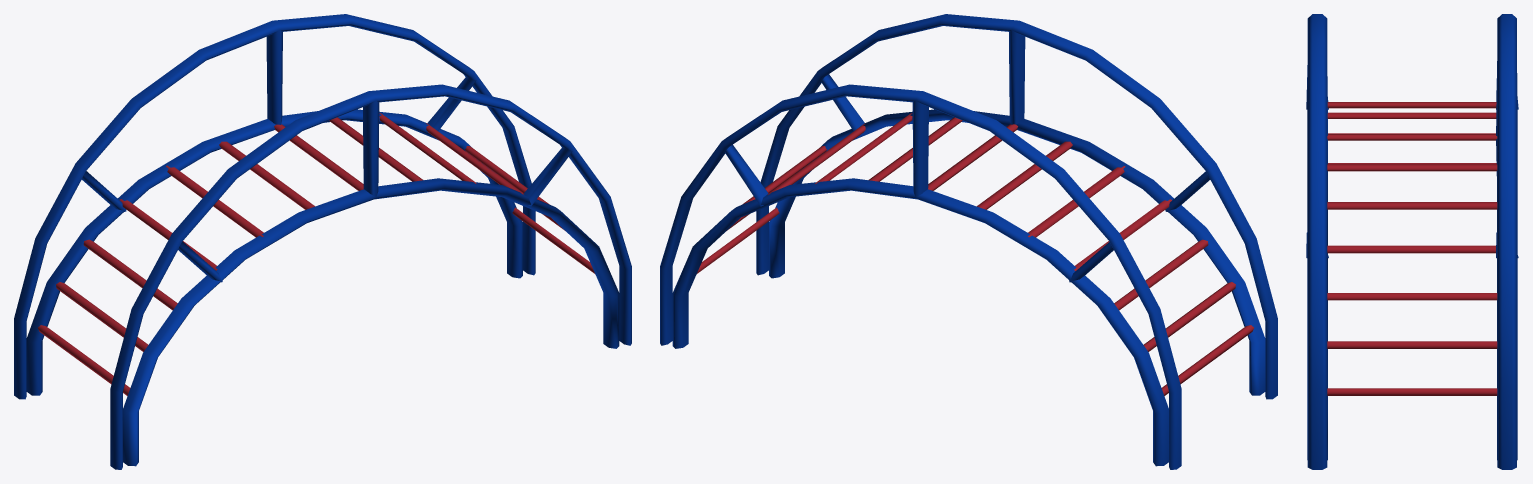
The picture shows the model from 3 angles, left to right: view 1: azimuth 30°, elevation 25°; view 2: azimuth 150°, elevation 25°; view 3: azimuth 270°, elevation 25°; orthographic projection.
Parts seen in each view (by area): view 1: Цилиндр.002; view 2: Цилиндр.002; view 3: Цилиндр.002.
Part boxes in pixels (x1,y1,x2,y2): Цилиндр.002: (14,14,631,469); Цилиндр.002: (660,14,1277,469); Цилиндр.002: (1306,14,1518,469).
Size of the model in its own units: 109 by 63.19 by 39.59.
